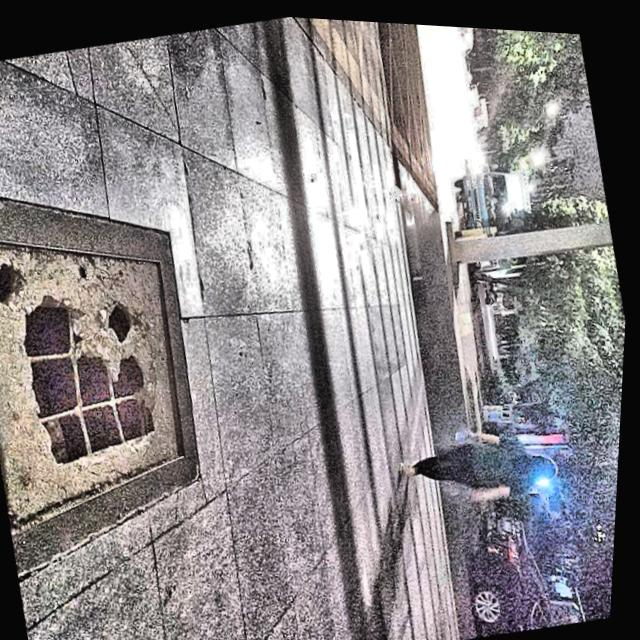open_manhole: (0, 196, 202, 563)
